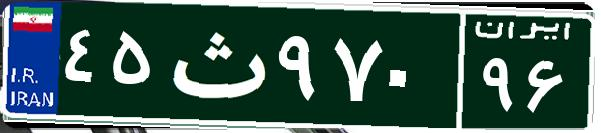0: (385, 28, 445, 110)
4: (57, 26, 110, 107)
5: (110, 28, 158, 105)
6: (525, 38, 570, 115)
7: (330, 28, 385, 110)
9: (273, 28, 330, 110), (475, 38, 525, 113)
ث: (158, 15, 273, 115)
